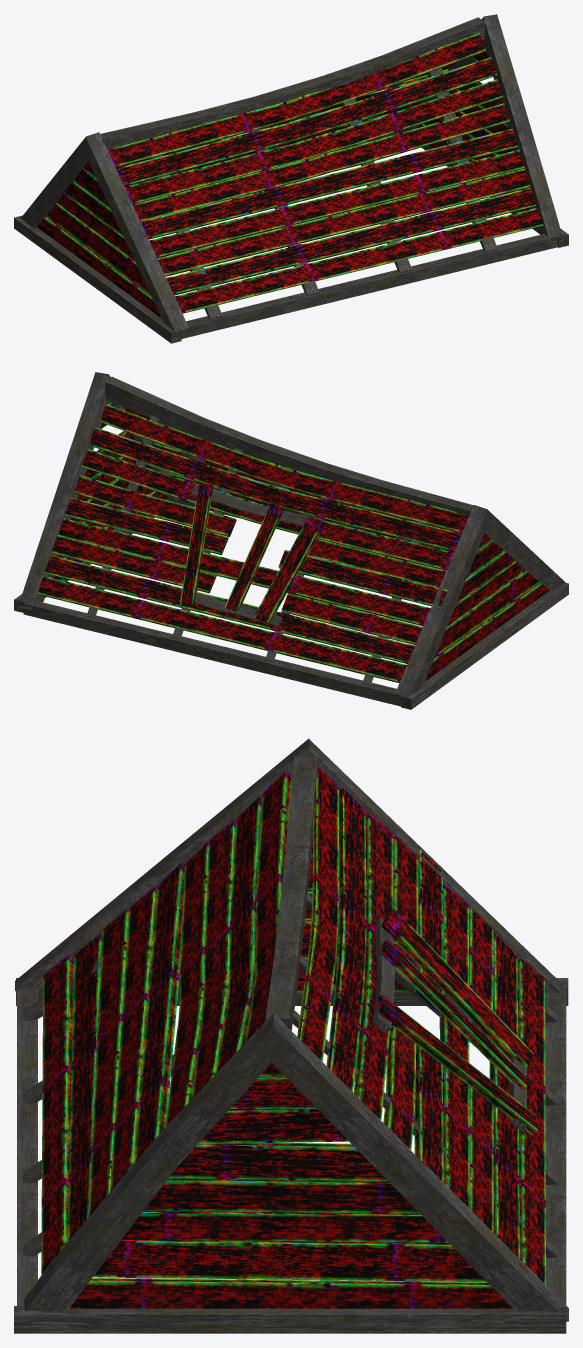
The model's file is SM_SmallCabin_RoofStructure2.fbx.
The picture shows the model from 3 angles, top to bottom: view 1: azimuth 30°, elevation 25°; view 2: azimuth 150°, elevation 25°; view 3: azimuth 270°, elevation 25°; orthographic projection. The views are drawn at different scales.
Visible parts, largest first — view 1: SM_SmallCabin_RoofStructure2; view 2: SM_SmallCabin_RoofStructure2; view 3: SM_SmallCabin_RoofStructure2.
Part boxes in pixels (x1,y1,x2,y2): SM_SmallCabin_RoofStructure2: (14, 14, 568, 343); SM_SmallCabin_RoofStructure2: (14, 372, 568, 709); SM_SmallCabin_RoofStructure2: (14, 738, 568, 1333).
Size of the model in its own units: 929 by 634 by 396.
